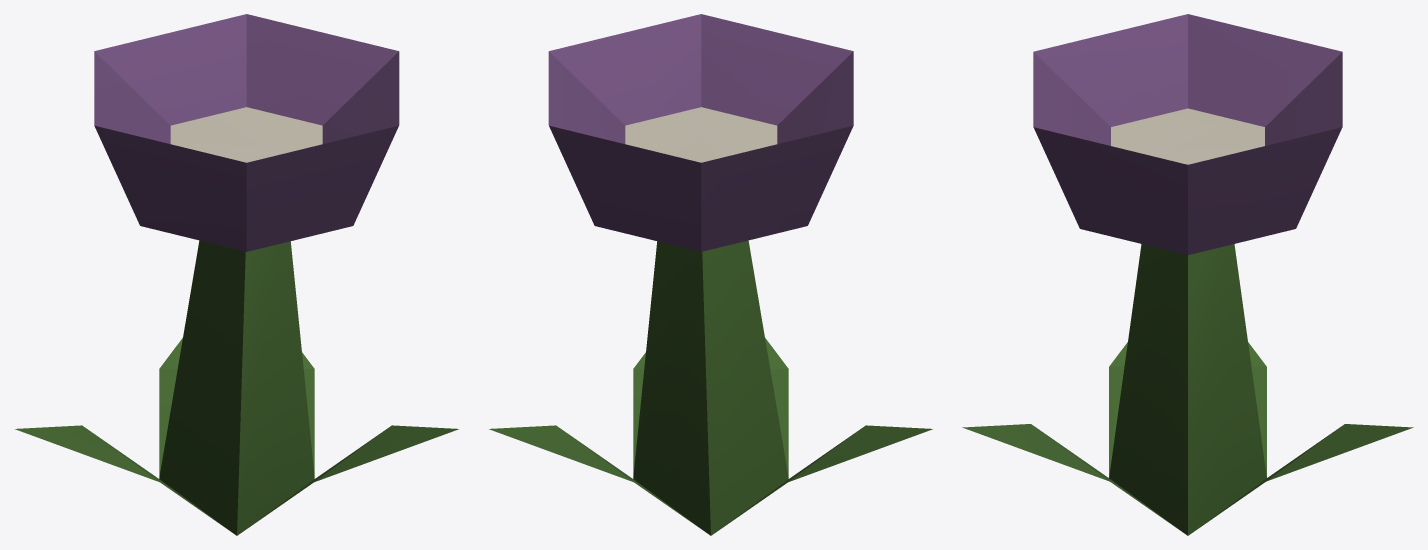
File: flower_purple_c.glb
3 views of the same model, side by side, from view 1: azimuth 30°, elevation 25°; view 2: azimuth 150°, elevation 25°; view 3: azimuth 270°, elevation 25° (orthographic).
Visible parts, largest first — view 1: flower_purple_c; view 2: flower_purple_c; view 3: flower_purple_c.
Boxes of the visible parts, x1,y1,x2,y2 form: flower_purple_c: (15,14,458,535); flower_purple_c: (489,14,932,535); flower_purple_c: (962,14,1413,535).
Bounding box in the file's own units: 0.376 × 0.38 × 0.377.
